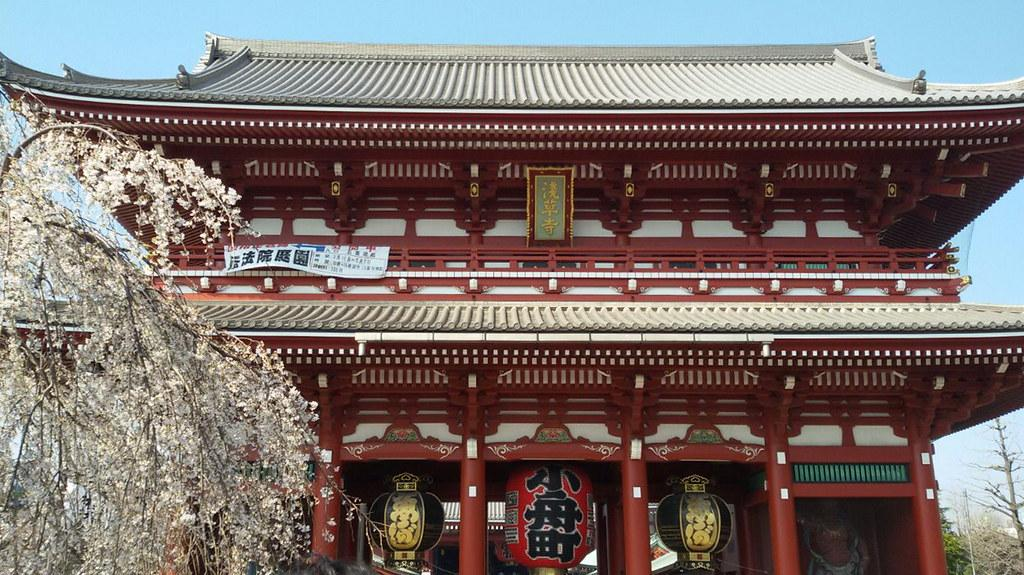temple: (2, 30, 1022, 574)
